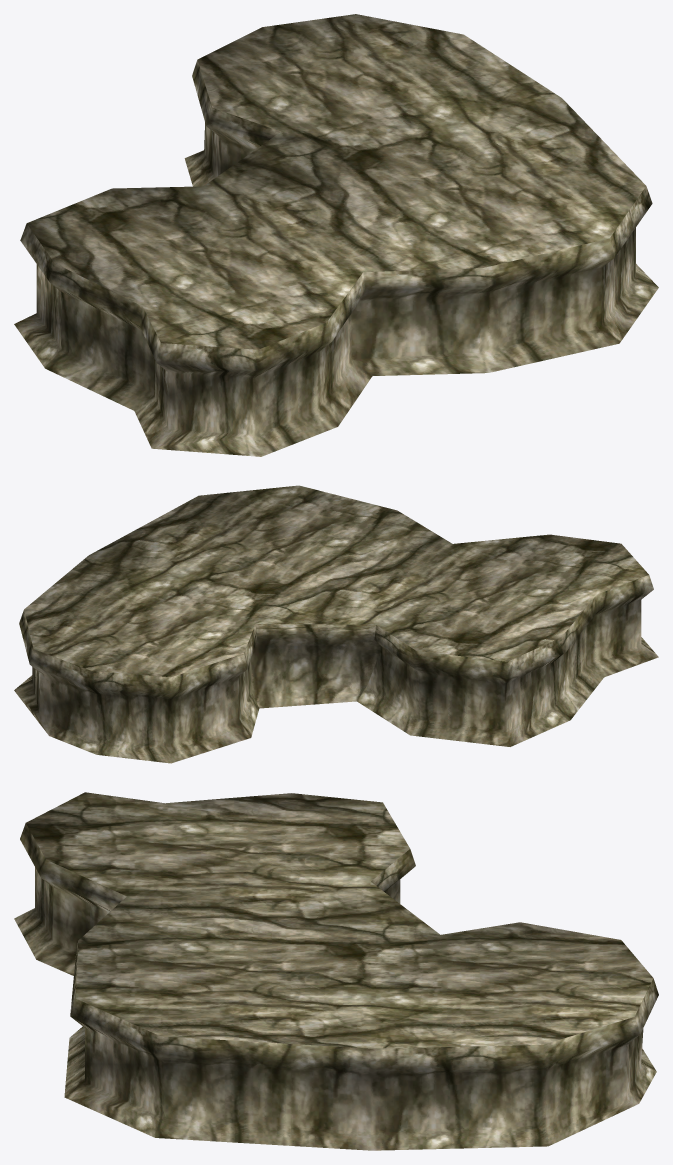
The model's file is CB_NEWPLAYSURFACE_CB_PLAYSURFACE130.fbx.
3 renders of one model, top to bottom at view 1: azimuth 30°, elevation 25°; view 2: azimuth 150°, elevation 25°; view 3: azimuth 270°, elevation 25°, orthographic. The views are drawn at different scales.
Parts seen in each view (by area): view 1: CB_NEWPLAYSURFACE_CB_PLAYSURFACE130; view 2: CB_NEWPLAYSURFACE_CB_PLAYSURFACE130; view 3: CB_NEWPLAYSURFACE_CB_PLAYSURFACE130.
Boxes of the visible parts, bbox=[...] form: CB_NEWPLAYSURFACE_CB_PLAYSURFACE130: bbox=[14, 14, 658, 456]; CB_NEWPLAYSURFACE_CB_PLAYSURFACE130: bbox=[14, 485, 658, 763]; CB_NEWPLAYSURFACE_CB_PLAYSURFACE130: bbox=[14, 792, 658, 1150].
Size of the model in its own units: 172583 by 29327 by 176581.
Materials: 2 (2 with a texture image).
